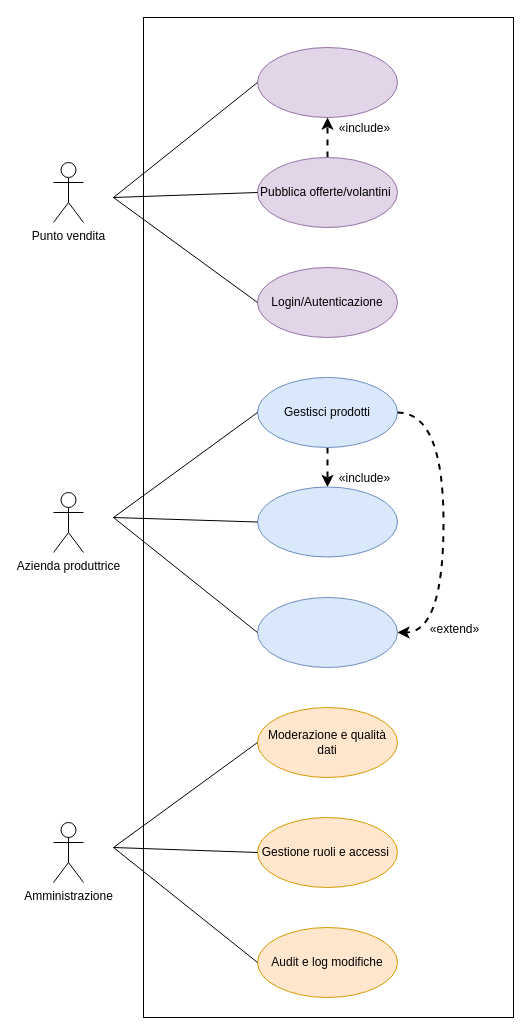
The diagram is 531 pixels wide and 1035 high, and some of its shapes have lost their labels. Here are the shapes that lost their labels. From the top down, the centre of each, then its label:
point (327, 82): Gestisci prezzi
point (327, 521): Carica immagini prodotto
point (327, 632): Blocca modifiche metadati
